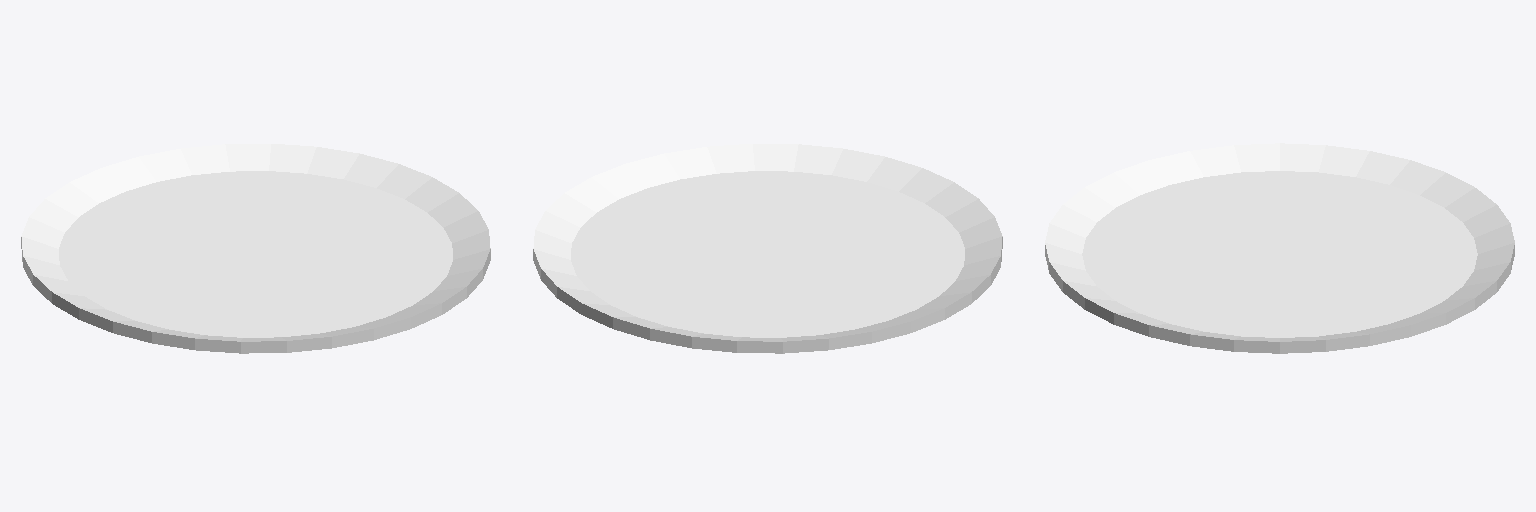
File: plate.obj
3 views of the same model, side by side, from view 1: azimuth 30°, elevation 25°; view 2: azimuth 150°, elevation 25°; view 3: azimuth 270°, elevation 25° (orthographic).
Parts seen in each view (by area): view 1: Cylinder; view 2: Cylinder; view 3: Cylinder.
Boxes of the visible parts, box(x1,y1,x2,y2) form: Cylinder: box(21, 144, 490, 353); Cylinder: box(533, 144, 1002, 353); Cylinder: box(1045, 143, 1514, 353).
Bounding box in the file's own units: 0.36 × 0.0226 × 0.36.